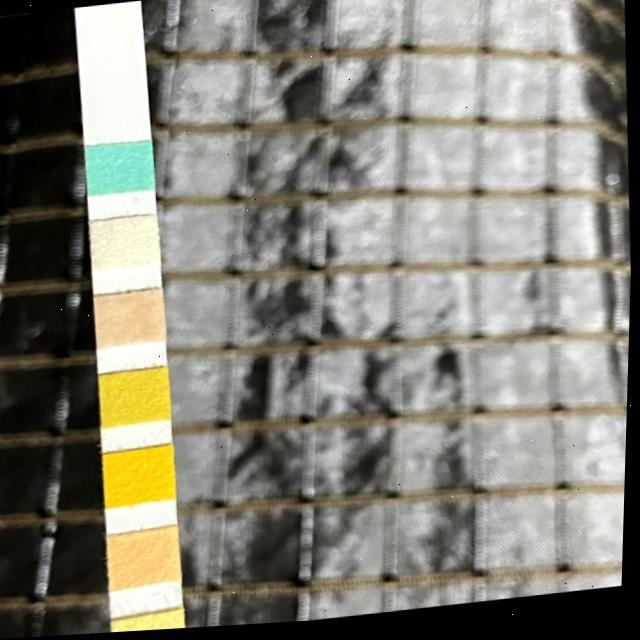Bilirubin: (95, 219, 156, 271)
Blood: (113, 452, 174, 505)
Glucose: (89, 146, 150, 195)
Ketone: (101, 294, 162, 346)
Protein: (122, 617, 183, 634)
SpGravity: (105, 371, 169, 425)
pH: (117, 533, 178, 587)
